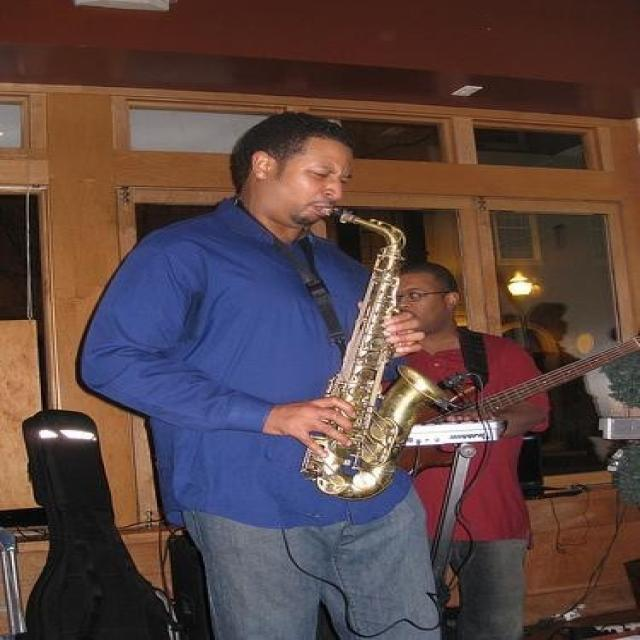saxophone: (293, 200, 445, 502)
